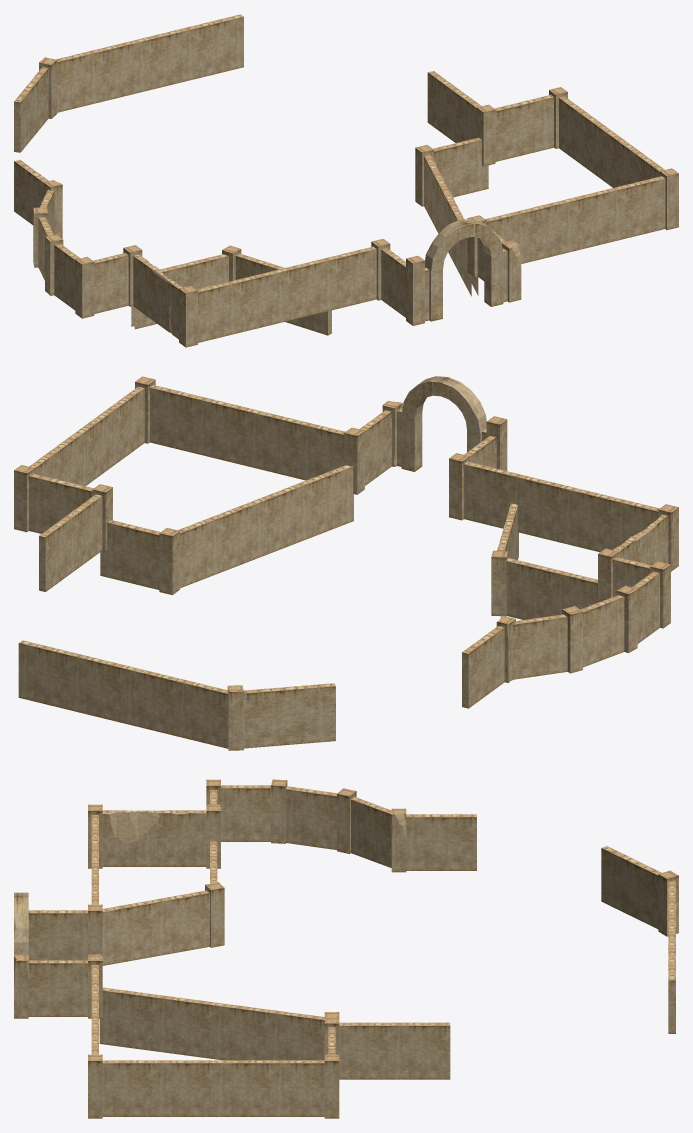
File: poi_tato_farm_64x64_s01_l0.fbx
The picture shows the model from 3 angles, top to bottom: view 1: azimuth 30°, elevation 25°; view 2: azimuth 150°, elevation 25°; view 3: azimuth 270°, elevation 25°; orthographic projection. The views are drawn at different scales.
Visible parts, largest first — view 1: mesh_node; view 2: mesh_node; view 3: mesh_node.
Part boxes in pixels (left/top/right/bottom): mesh_node: left=14, top=14, right=678, bottom=347; mesh_node: left=14, top=376, right=678, bottom=750; mesh_node: left=14, top=779, right=678, bottom=1118.
Bounding box in the file's own units: 45.06 × 9 × 44.96.
